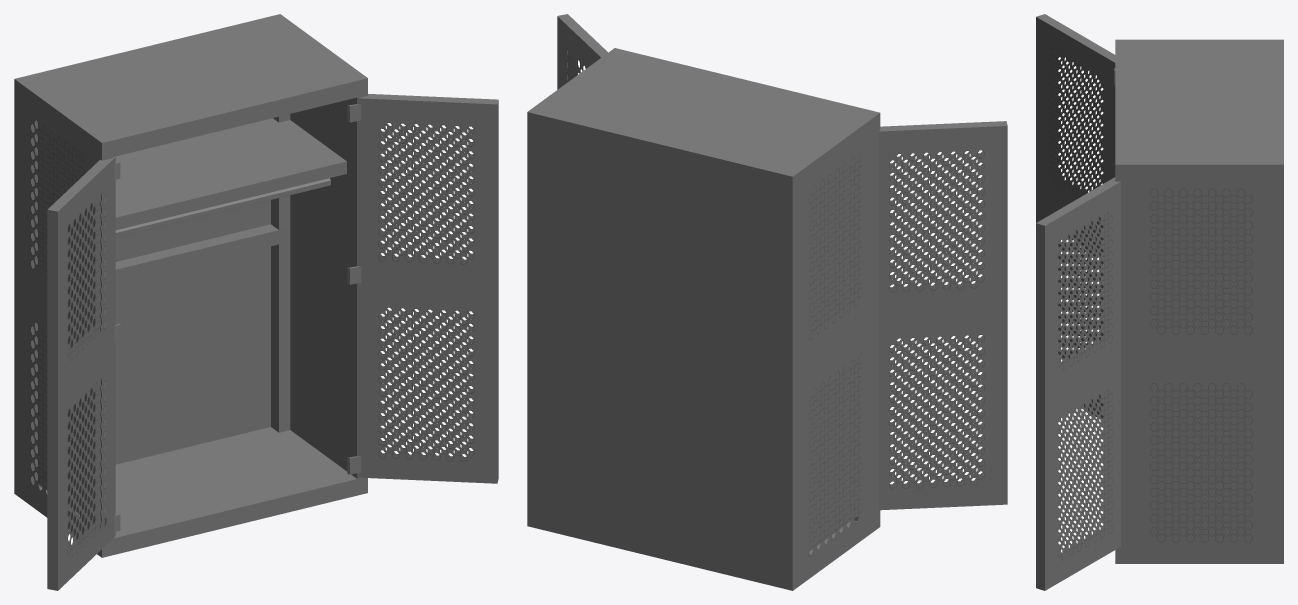
Rendered from LockerOpen.obj.
3 renders of one model, left to right at view 1: azimuth 30°, elevation 25°; view 2: azimuth 150°, elevation 25°; view 3: azimuth 270°, elevation 25°, orthographic. The views are drawn at different scales.
Parts seen in each view (by area): view 1: Locker; view 2: Locker; view 3: Locker.
Part boxes in pixels (x1=…): Locker: x1=14, y1=14, x2=498, y2=590; Locker: x1=527, y1=14, x2=1007, y2=590; Locker: x1=1036, y1=14, x2=1283, y2=590.
Size of the model in its own units: 3.92 by 3.44 by 1.94.
Materials: 1 (1 with a texture image).
